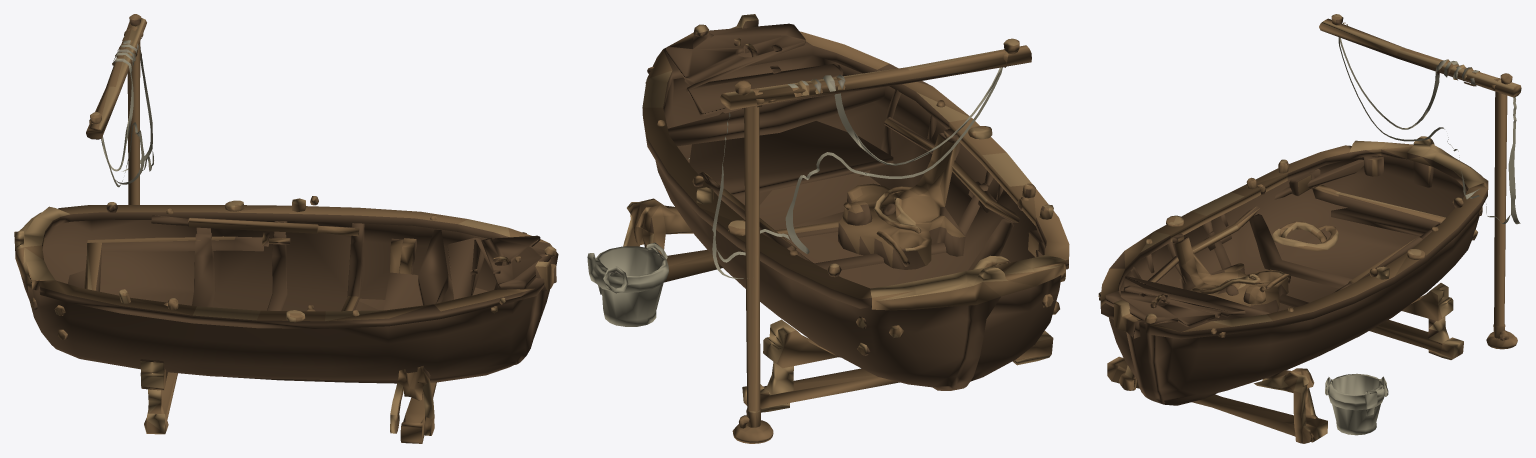
The model's file is skiff_on_blocks_a_tripo.glb.
3 renders of one model, left to right at view 1: azimuth 30°, elevation 25°; view 2: azimuth 150°, elevation 25°; view 3: azimuth 270°, elevation 25°, orthographic. The views are drawn at different scales.
Parts seen in each view (by area): view 1: Surface; view 2: Surface; view 3: Surface.
Part boxes in pixels (left/top/right/bottom): Surface: left=14, top=14, right=558, bottom=443; Surface: left=587, top=14, right=1069, bottom=443; Surface: left=1098, top=14, right=1521, bottom=443.
Bounding box in the file's own units: 4.68 × 3.09 × 4.33.
